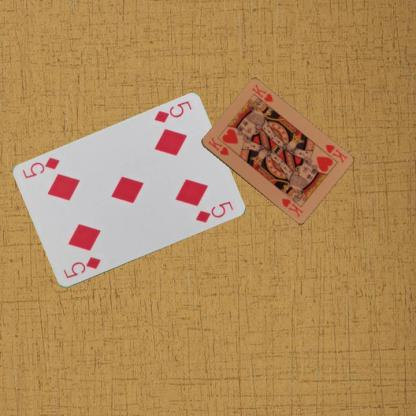5d: (60, 254, 102, 280), (151, 99, 193, 125)
Kh: (322, 142, 348, 164), (205, 134, 230, 156)
